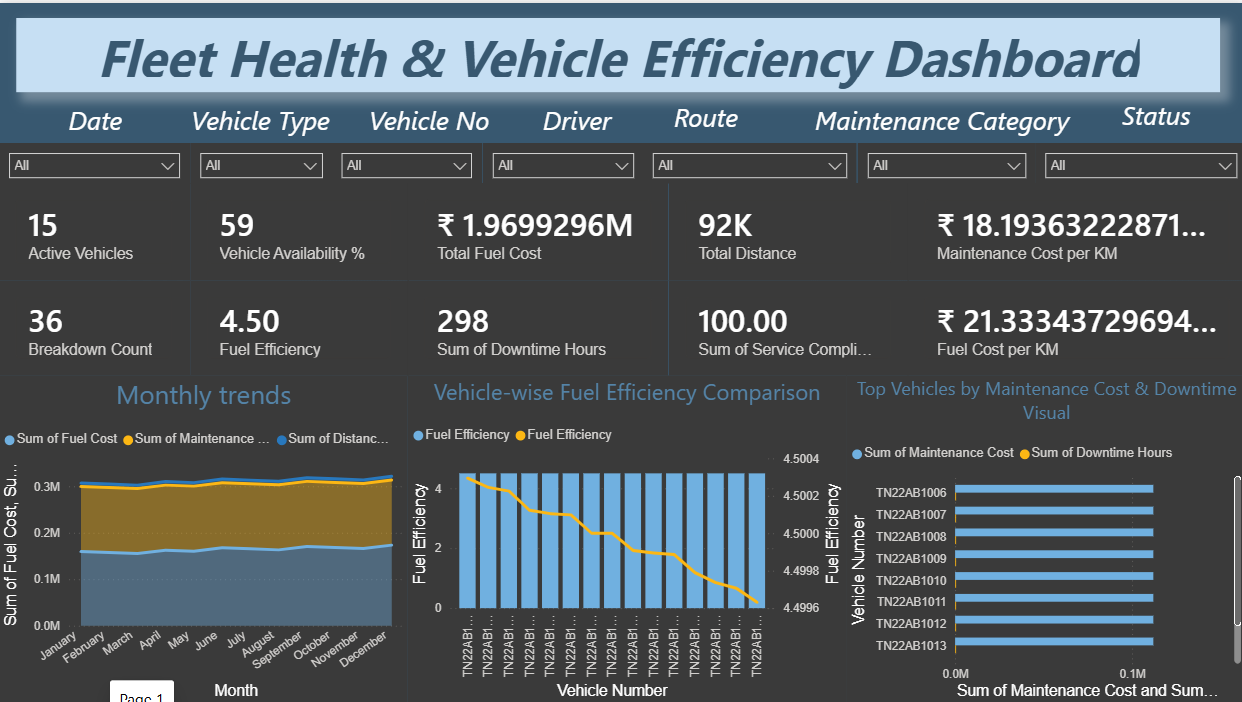

Layout of this report page (visuals, bound fields, positions):
{"tool":"powerbi","page":{"name":"Page 1","canvas":[1280,720],"ordinal":0},"visuals":[{"type":"shape","box":[17.4,15.2,1234.8,76.1],"z":0},{"type":"slicer","fields":{"Values":["Table1.Trip Date"]},"box":[0,143.5,195.7,41.3],"z":1000},{"type":"slicer","fields":{"Values":["Table1.Vehicle Number"]},"box":[341.3,143.5,154.3,41.3],"z":2000},{"type":"slicer","fields":{"Values":["Table1.Vehicle Status"]},"box":[1063,143.5,217.4,41.3],"z":3000},{"type":"slicer","fields":{"Values":["Table1.Vehicle Type"]},"box":[195.7,143.5,145.7,41.3],"z":4000},{"type":"slicer","fields":{"Values":["Table1.Maintenance Category"]},"box":[880.4,143.5,182.6,41.3],"z":5000},{"type":"slicer","fields":{"Values":["Table1.Route"]},"box":[660.9,143.5,219.6,41.3],"z":6000},{"type":"slicer","fields":{"Values":["Table1.Driver Name"]},"box":[495.7,143.5,165.2,41.3],"z":7000},{"type":"textbox","box":[50,95.7,97.8,47.8],"z":8000},{"type":"textbox","box":[147.8,95.7,241.3,47.8],"z":9000},{"type":"textbox","box":[341.3,95.7,200,47.8],"z":10000},{"type":"textbox","box":[523.9,95.7,137,47.8],"z":11000},{"type":"textbox","box":[687,93.5,182.6,50],"z":12000},{"type":"textbox","box":[813,95.7,308.7,47.8],"z":13000},{"type":"textbox","box":[1121.7,91.3,130.4,54.3],"z":14000},{"type":"cardVisual","fields":{"Data":["Table1.Active Vehicles"]},"box":[0,184.8,195.7,100],"z":15000},{"type":"cardVisual","fields":{"Data":["Table1.Vehicle Availability %"]},"box":[195.7,184.8,223.9,100],"z":16000},{"type":"cardVisual","fields":{"Data":["Table1.Total Distance"]},"box":[687,184.8,245.7,100],"z":17000},{"type":"cardVisual","fields":{"Data":["Table1.Fuel Cost per KM"]},"box":[932.6,284.8,347.8,97.8],"z":18000},{"type":"cardVisual","fields":{"Data":["Table1.Maintenance Cost per KM"]},"box":[932.6,184.8,347.8,100],"z":19000},{"type":"cardVisual","fields":{"Data":["Table1.Fuel Efficiency"]},"box":[195.7,284.8,223.9,97.8],"z":20000},{"type":"cardVisual","fields":{"Data":["Table1.Total Fuel Cost"]},"box":[419.6,184.8,267.4,100],"z":21000},{"type":"cardVisual","fields":{"Data":["Table1.Breakdown Count"]},"box":[0,284.8,195.7,97.8],"z":22000},{"type":"cardVisual","fields":{"Data":["Sum(Table1.Downtime Hours)"]},"box":[419.6,284.8,267.4,97.8],"z":23000},{"type":"cardVisual","fields":{"Data":["Sum(Table1.Service Compliance %)"]},"box":[687,284.8,245.7,97.8],"z":24000},{"type":"stackedAreaChart","title":"Monthly trends","fields":{"Category":["Table1.Trip Date.Variation.Date Hierarchy.Month"],"Y":["Sum(Table1.Fuel Cost)","Sum(Table1.Maintenance Cost)","Sum(Table1.Distance Travelled (KM))"]},"box":[0,382.6,419.6,337],"z":25000},{"type":"lineStackedColumnComboChart","title":"Vehicle-wise Fuel Efficiency Comparison","fields":{"Category":["Table1.Vehicle Number"],"Y2":["Table1.Fuel Efficiency"],"Y":["Table1.Fuel Efficiency"]},"box":[419.6,382.6,450,337],"z":26000},{"type":"clusteredBarChart","title":"Top Vehicles by Maintenance Cost & Downtime Visual","fields":{"Category":["Table1.Vehicle Number"],"Y":["Sum(Table1.Maintenance Cost)","Sum(Table1.Downtime Hours)"]},"box":[869.6,382.6,410.9,337],"z":27000}]}

Visuals, with their boxes in screenshot pixels (x1, y1, x2, y2), scaled from the page's 1280x720 canvas onto the 1242x702 screenshot:
shape: [left=17, top=15, right=1215, bottom=89]
slicer - Table1.Trip Date: [left=0, top=140, right=190, bottom=180]
slicer - Table1.Vehicle Number: [left=331, top=140, right=481, bottom=180]
slicer - Table1.Vehicle Status: [left=1031, top=140, right=1241, bottom=180]
slicer - Table1.Vehicle Type: [left=190, top=140, right=331, bottom=180]
slicer - Table1.Maintenance Category: [left=854, top=140, right=1031, bottom=180]
slicer - Table1.Route: [left=641, top=140, right=854, bottom=180]
slicer - Table1.Driver Name: [left=481, top=140, right=641, bottom=180]
textbox: [left=49, top=93, right=143, bottom=140]
textbox: [left=143, top=93, right=378, bottom=140]
textbox: [left=331, top=93, right=525, bottom=140]
textbox: [left=508, top=93, right=641, bottom=140]
textbox: [left=667, top=91, right=844, bottom=140]
textbox: [left=789, top=93, right=1088, bottom=140]
textbox: [left=1088, top=89, right=1215, bottom=142]
cardVisual - Table1.Active Vehicles: [left=0, top=180, right=190, bottom=278]
cardVisual - Table1.Vehicle Availability %: [left=190, top=180, right=407, bottom=278]
cardVisual - Table1.Total Distance: [left=667, top=180, right=905, bottom=278]
cardVisual - Table1.Fuel Cost per KM: [left=905, top=278, right=1241, bottom=373]
cardVisual - Table1.Maintenance Cost per KM: [left=905, top=180, right=1241, bottom=278]
cardVisual - Table1.Fuel Efficiency: [left=190, top=278, right=407, bottom=373]
cardVisual - Table1.Total Fuel Cost: [left=407, top=180, right=667, bottom=278]
cardVisual - Table1.Breakdown Count: [left=0, top=278, right=190, bottom=373]
cardVisual - Sum(Table1.Downtime Hours): [left=407, top=278, right=667, bottom=373]
cardVisual - Sum(Table1.Service Compliance %): [left=667, top=278, right=905, bottom=373]
"Monthly trends" stackedAreaChart: [left=0, top=373, right=407, bottom=701]
"Vehicle-wise Fuel Efficiency Comparison" lineStackedColumnComboChart: [left=407, top=373, right=844, bottom=701]
"Top Vehicles by Maintenance Cost & Downtime Visual" clusteredBarChart: [left=844, top=373, right=1241, bottom=701]
